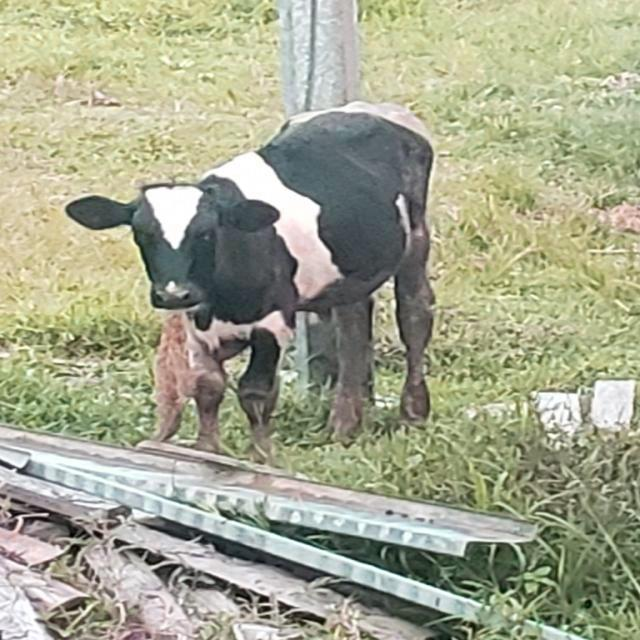cow: (66, 101, 434, 449)
